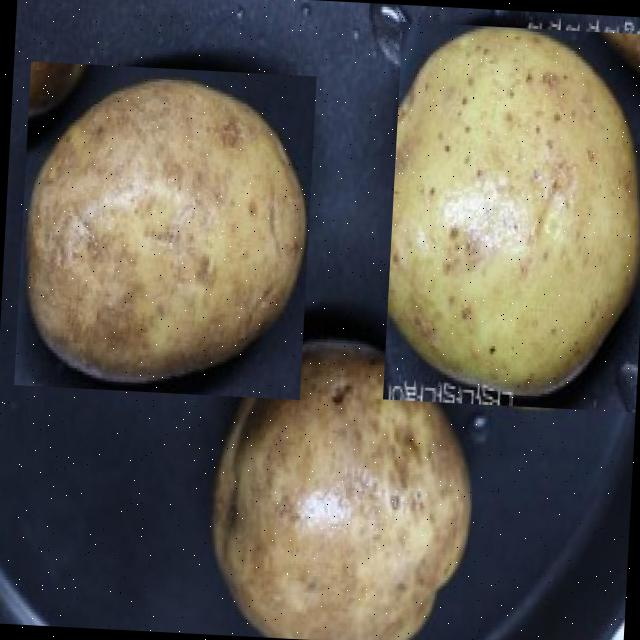Potato: (13, 59, 316, 400), (382, 21, 640, 412), (209, 345, 484, 640)
